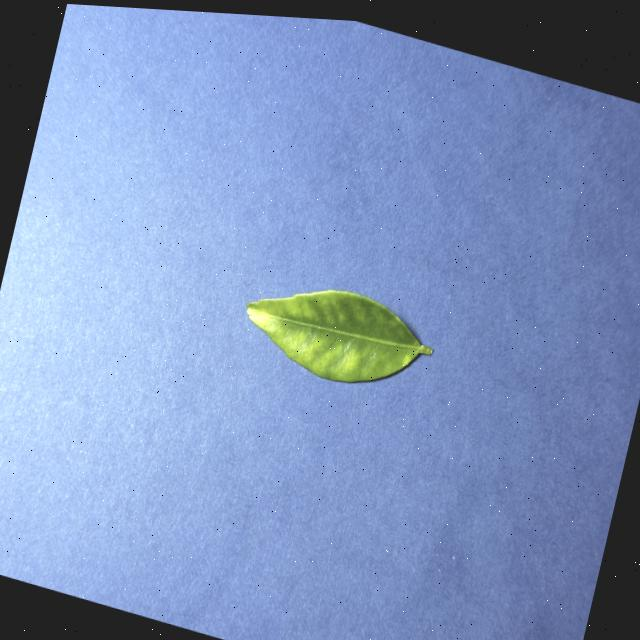greening: (245, 290, 431, 381)
